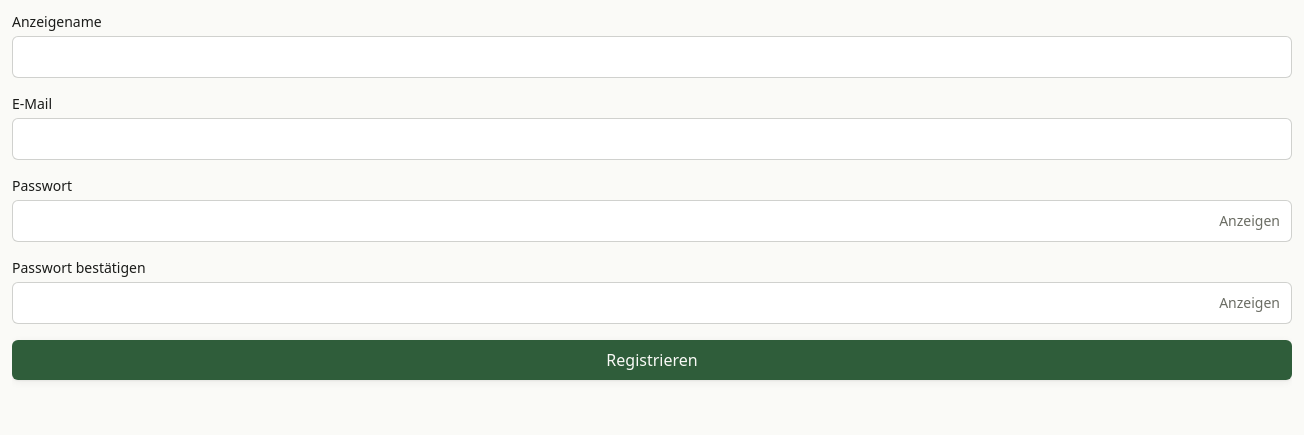
Test: does not submit and shows an alert when the passwords differ
This screenshot has width=1304, height=435.
Type "Mira" into the field labelled "Anzeigename" at (652, 57), box [12,36,1292,78]
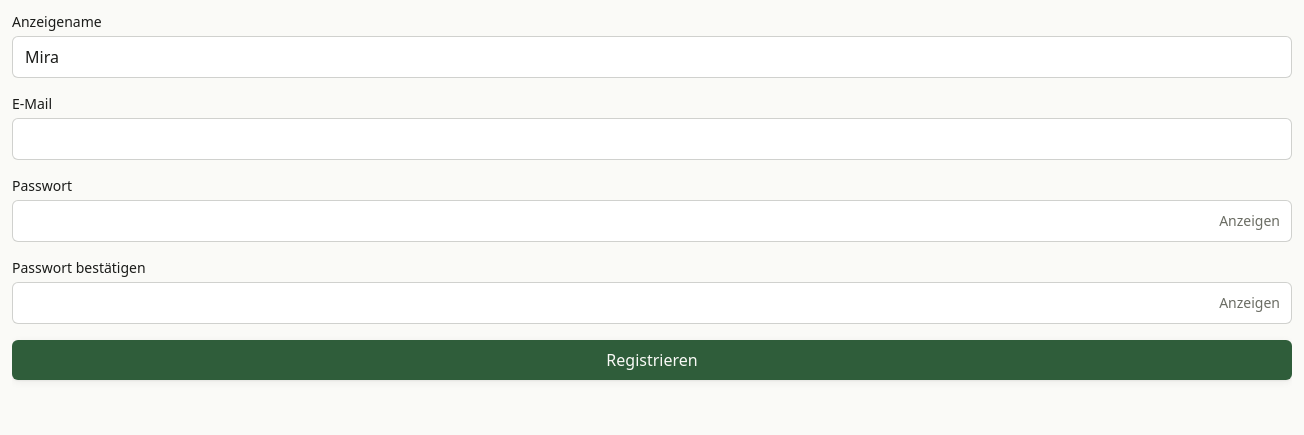
Type "max@b.de" into the field labelled "E-Mail" at (652, 139), box [12,118,1292,160]
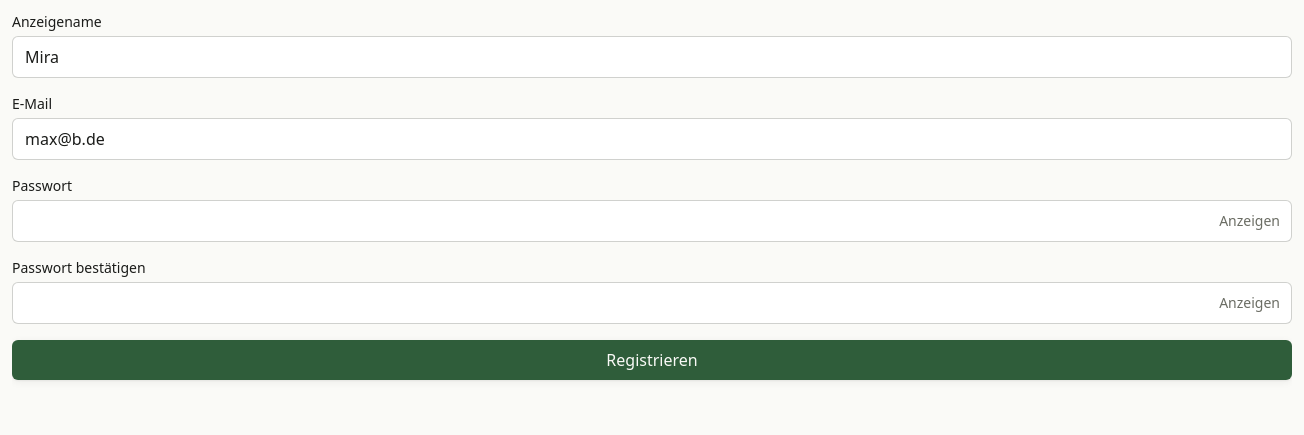
Type "ein-langes-passwort" into the password field labelled "Passwort" at (652, 221), box [12,200,1292,242]
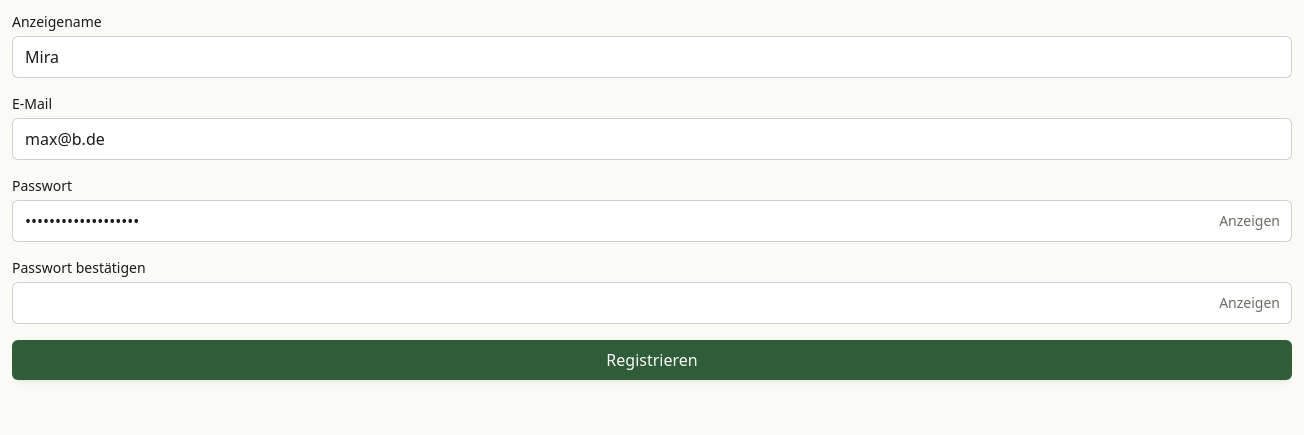
Type "anderes-passwort" into the password field labelled "Passwort bestätigen" at (652, 303), box [12,282,1292,324]
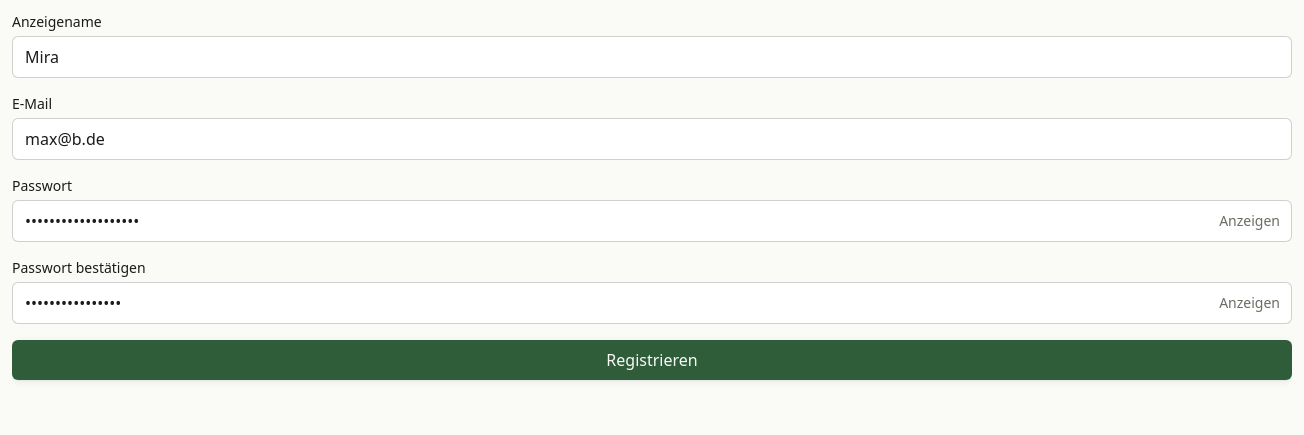
Click the button "Registrieren" at (652, 360), box [12,340,1292,380]
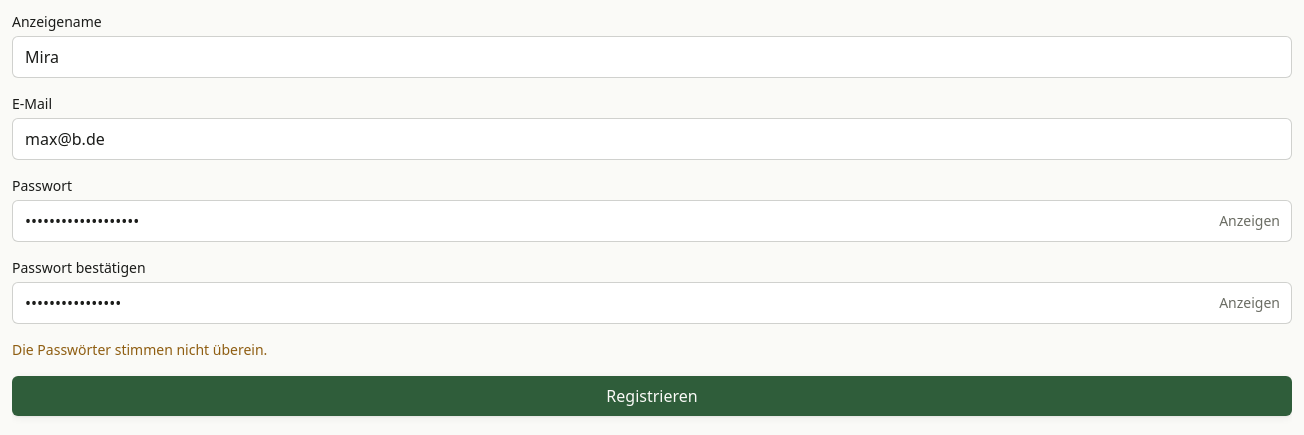
Expected: the message shows "stimmen nicht überein", [12,340,267,359]
